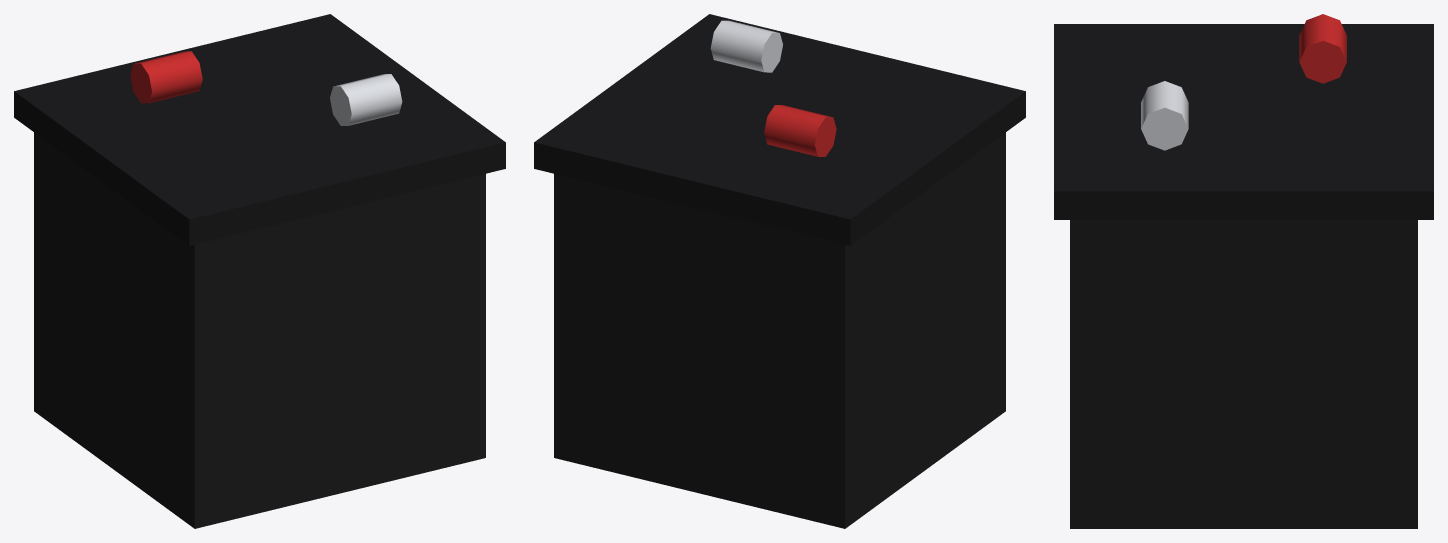
File: battery.obj
3 views of the same model, side by side, from view 1: azimuth 30°, elevation 25°; view 2: azimuth 150°, elevation 25°; view 3: azimuth 270°, elevation 25° (orthographic). The views are drawn at different scales.
Parts seen in each view (by area): view 1: Battery; view 2: Battery; view 3: Battery.
Boxes of the visible parts, x1,y1,x2,y2 form: Battery: (14, 14, 505, 528); Battery: (534, 14, 1025, 528); Battery: (1054, 14, 1433, 528).
Size of the model in its own units: 0.25 by 0.275 by 0.24.
